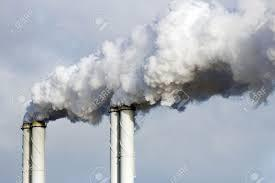smoke: (24, 0, 275, 127)
